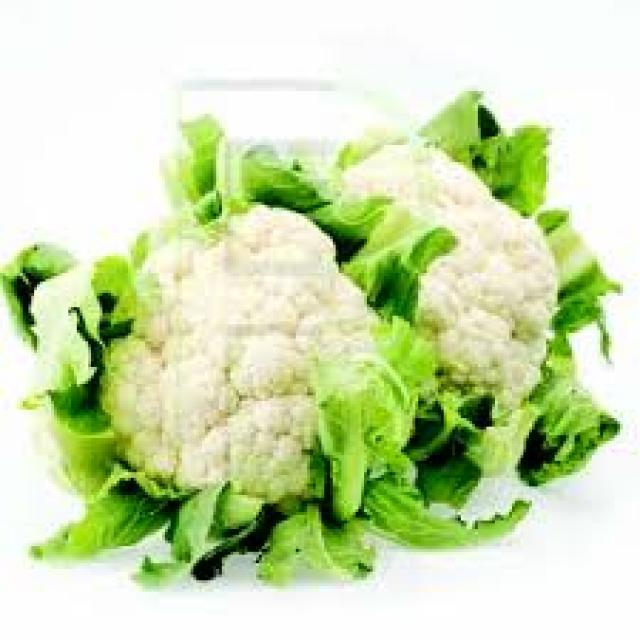organic waste: (0, 196, 523, 580), (160, 91, 618, 481)
